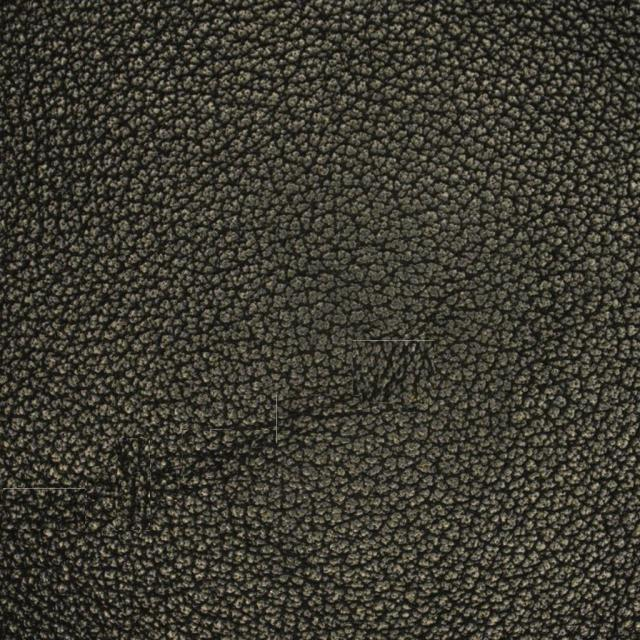Healed Injury: (306, 277, 544, 444), (46, 423, 283, 571)
